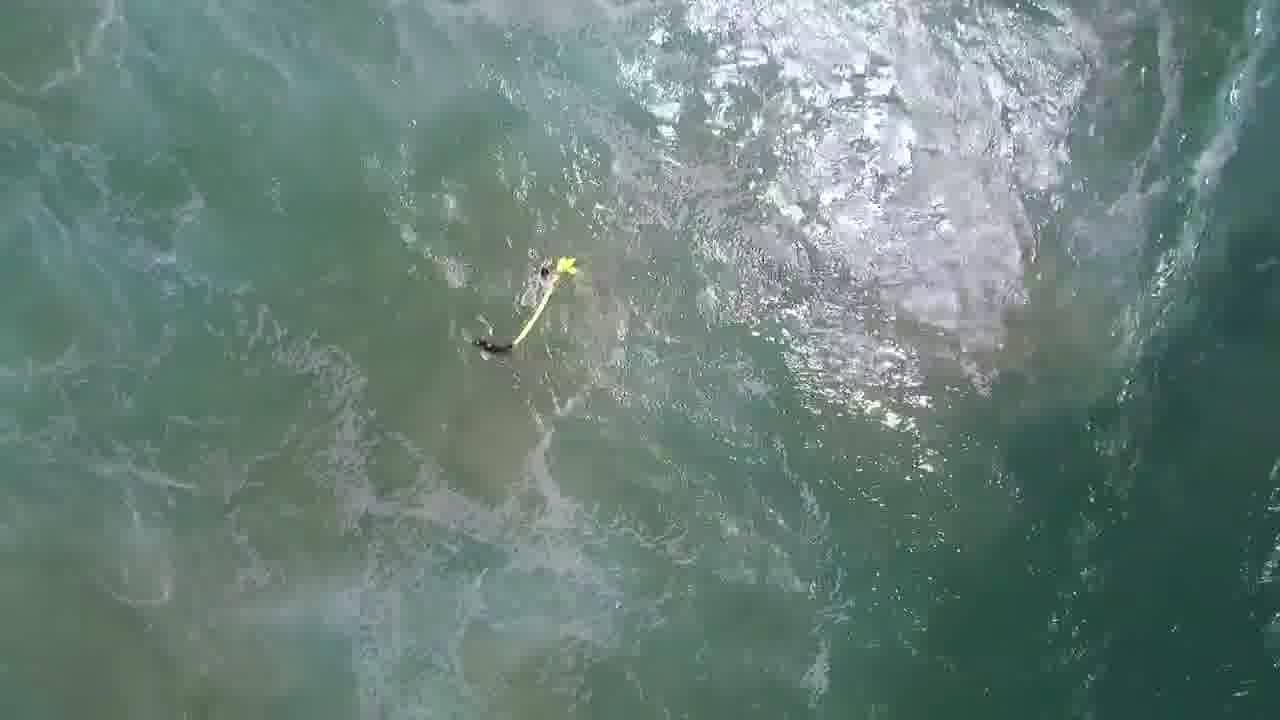human: (454, 331, 521, 358), (533, 261, 563, 289)
